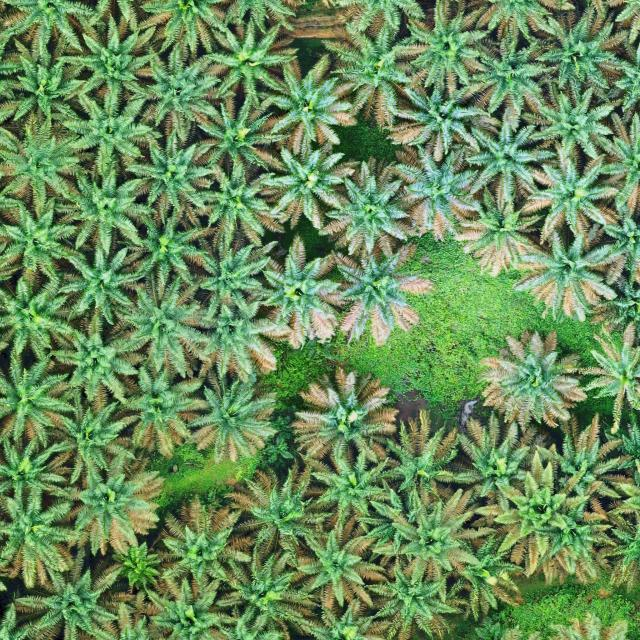Tree: (473, 449, 612, 580), (369, 488, 502, 584), (50, 447, 166, 555), (320, 18, 431, 128), (224, 463, 338, 565), (106, 269, 212, 378), (330, 242, 438, 346), (477, 330, 589, 428), (317, 155, 418, 261), (259, 231, 349, 349), (248, 133, 356, 230), (380, 408, 476, 514), (288, 372, 399, 463), (454, 411, 552, 514), (514, 227, 616, 324), (535, 412, 634, 511), (518, 149, 622, 243), (0, 109, 97, 208), (62, 89, 164, 183), (130, 40, 222, 142), (194, 14, 300, 100), (216, 548, 322, 634), (54, 13, 157, 100), (160, 494, 253, 589), (295, 518, 391, 610), (455, 181, 546, 278), (184, 372, 280, 463), (467, 107, 558, 203), (115, 365, 208, 458), (114, 204, 219, 286), (392, 144, 480, 241), (388, 81, 491, 163), (0, 486, 83, 587), (54, 170, 157, 251), (14, 564, 123, 640), (125, 127, 222, 212), (191, 161, 288, 246), (257, 58, 356, 140), (186, 95, 280, 181), (50, 395, 140, 484), (50, 326, 151, 405), (0, 34, 88, 122), (407, 0, 492, 89), (535, 7, 629, 87), (197, 230, 280, 320), (444, 530, 524, 622), (0, 354, 78, 448), (462, 36, 558, 112), (57, 244, 146, 325), (373, 564, 467, 640), (0, 196, 78, 285), (195, 299, 278, 381), (296, 448, 392, 517), (0, 277, 76, 362), (586, 321, 640, 436), (144, 574, 238, 640), (529, 86, 616, 148), (0, 434, 70, 511)
